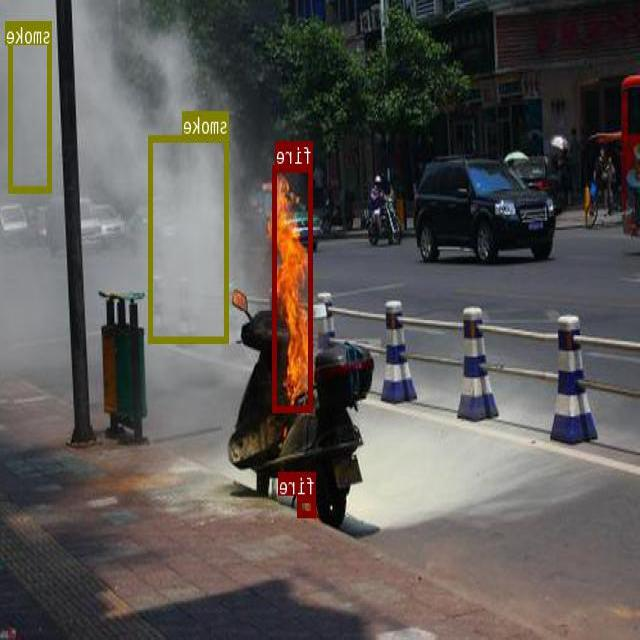fire: (274, 164, 314, 410), (298, 496, 317, 516)
smoke: (150, 134, 230, 342), (10, 20, 52, 191)
